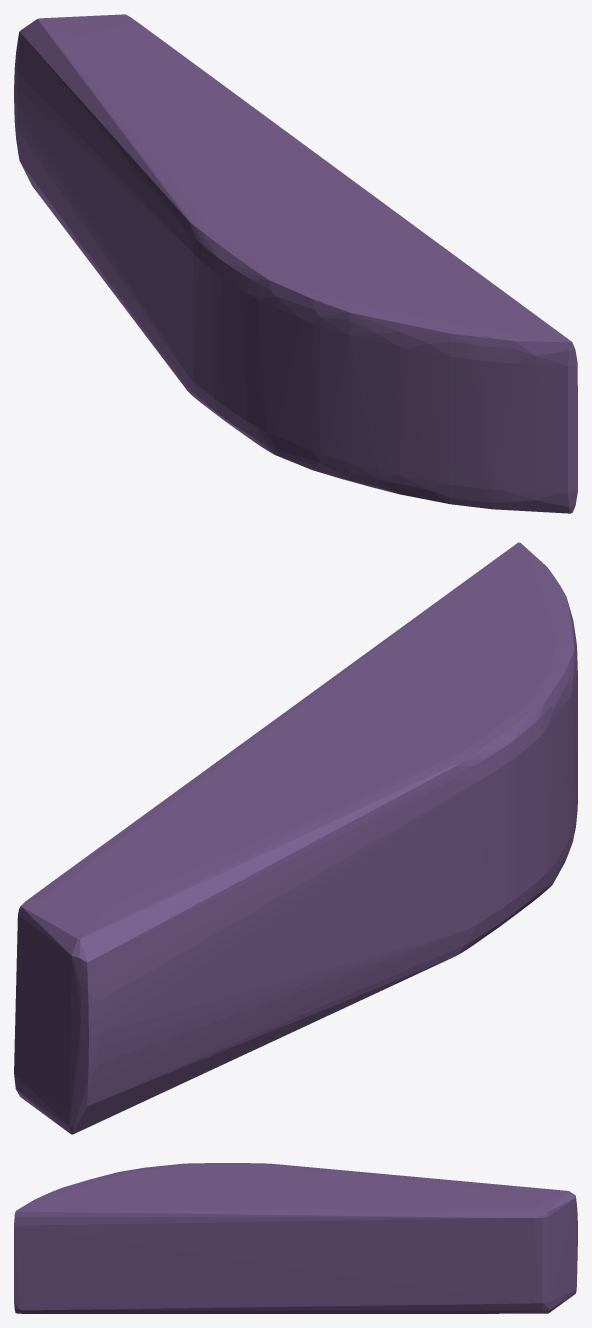
The model's file is left-hip-yaw-0_part_1.obj.
3 renders of one model, top to bottom at view 1: azimuth 30°, elevation 25°; view 2: azimuth 150°, elevation 25°; view 3: azimuth 270°, elevation 25°, orthographic. The views are drawn at different scales.
Size of the model in its own units: 0.0247 by 0.0222 by 0.1098.
